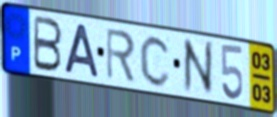5: (220, 43, 244, 102)
A: (62, 21, 102, 80)
B: (32, 14, 64, 74)
C: (139, 33, 173, 89)
N: (181, 36, 216, 96)
R: (104, 27, 137, 85)
